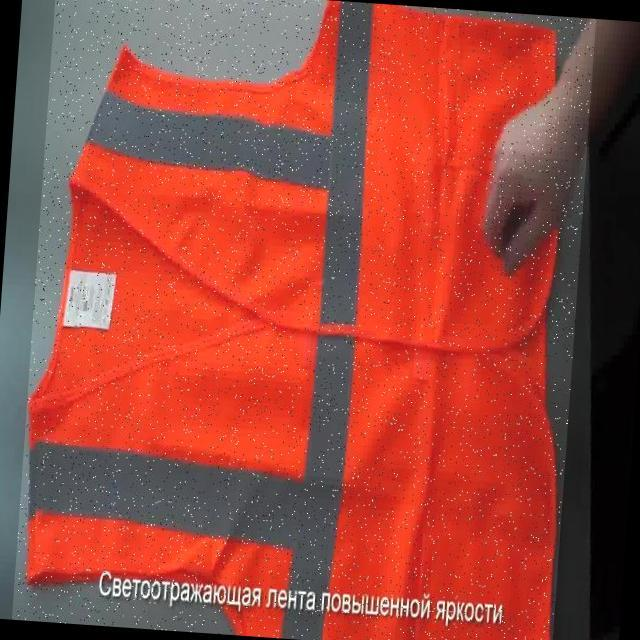Safety Vest: (11, 0, 595, 640)
bare-arms: (478, 92, 589, 276)
